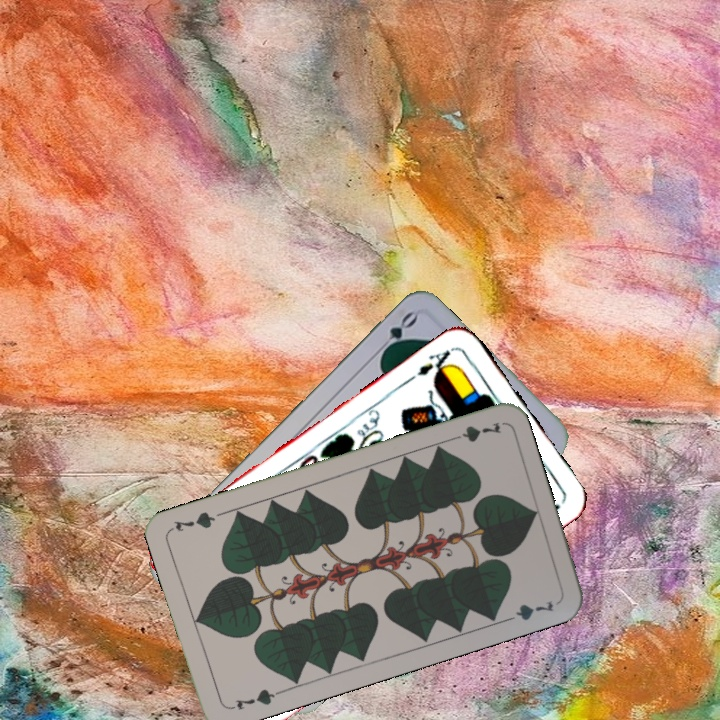EA: (413, 344, 456, 381)
G7: (445, 417, 503, 445), (226, 685, 284, 713)
GO: (372, 307, 420, 360)
